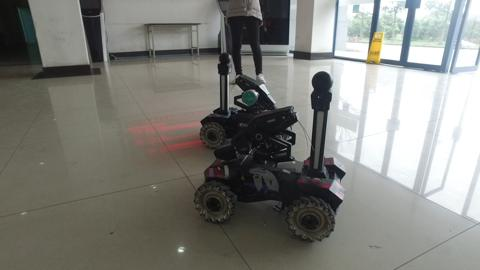chariot: (190, 68, 349, 247), (192, 50, 297, 148)
